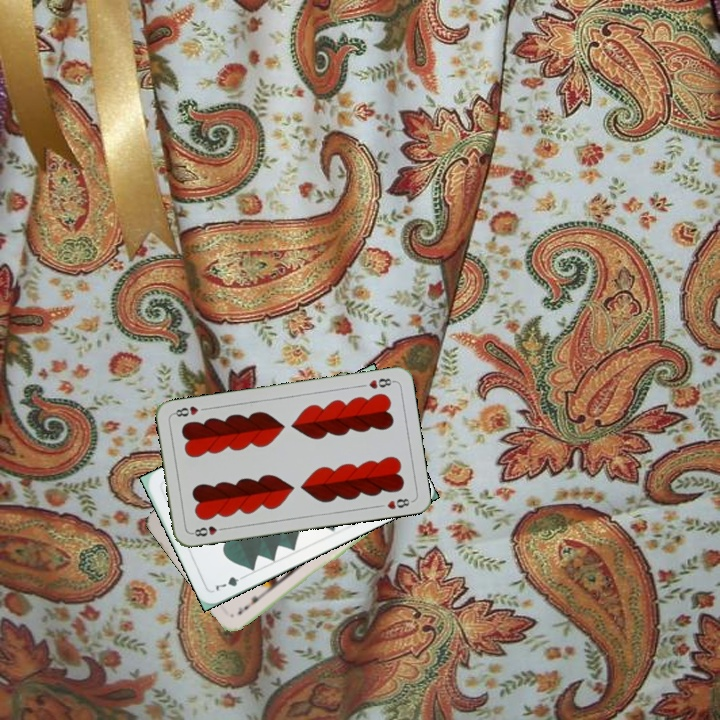E7: (233, 592, 266, 617)
G7: (211, 571, 249, 594)
H8: (188, 522, 228, 539), (365, 374, 397, 392)
